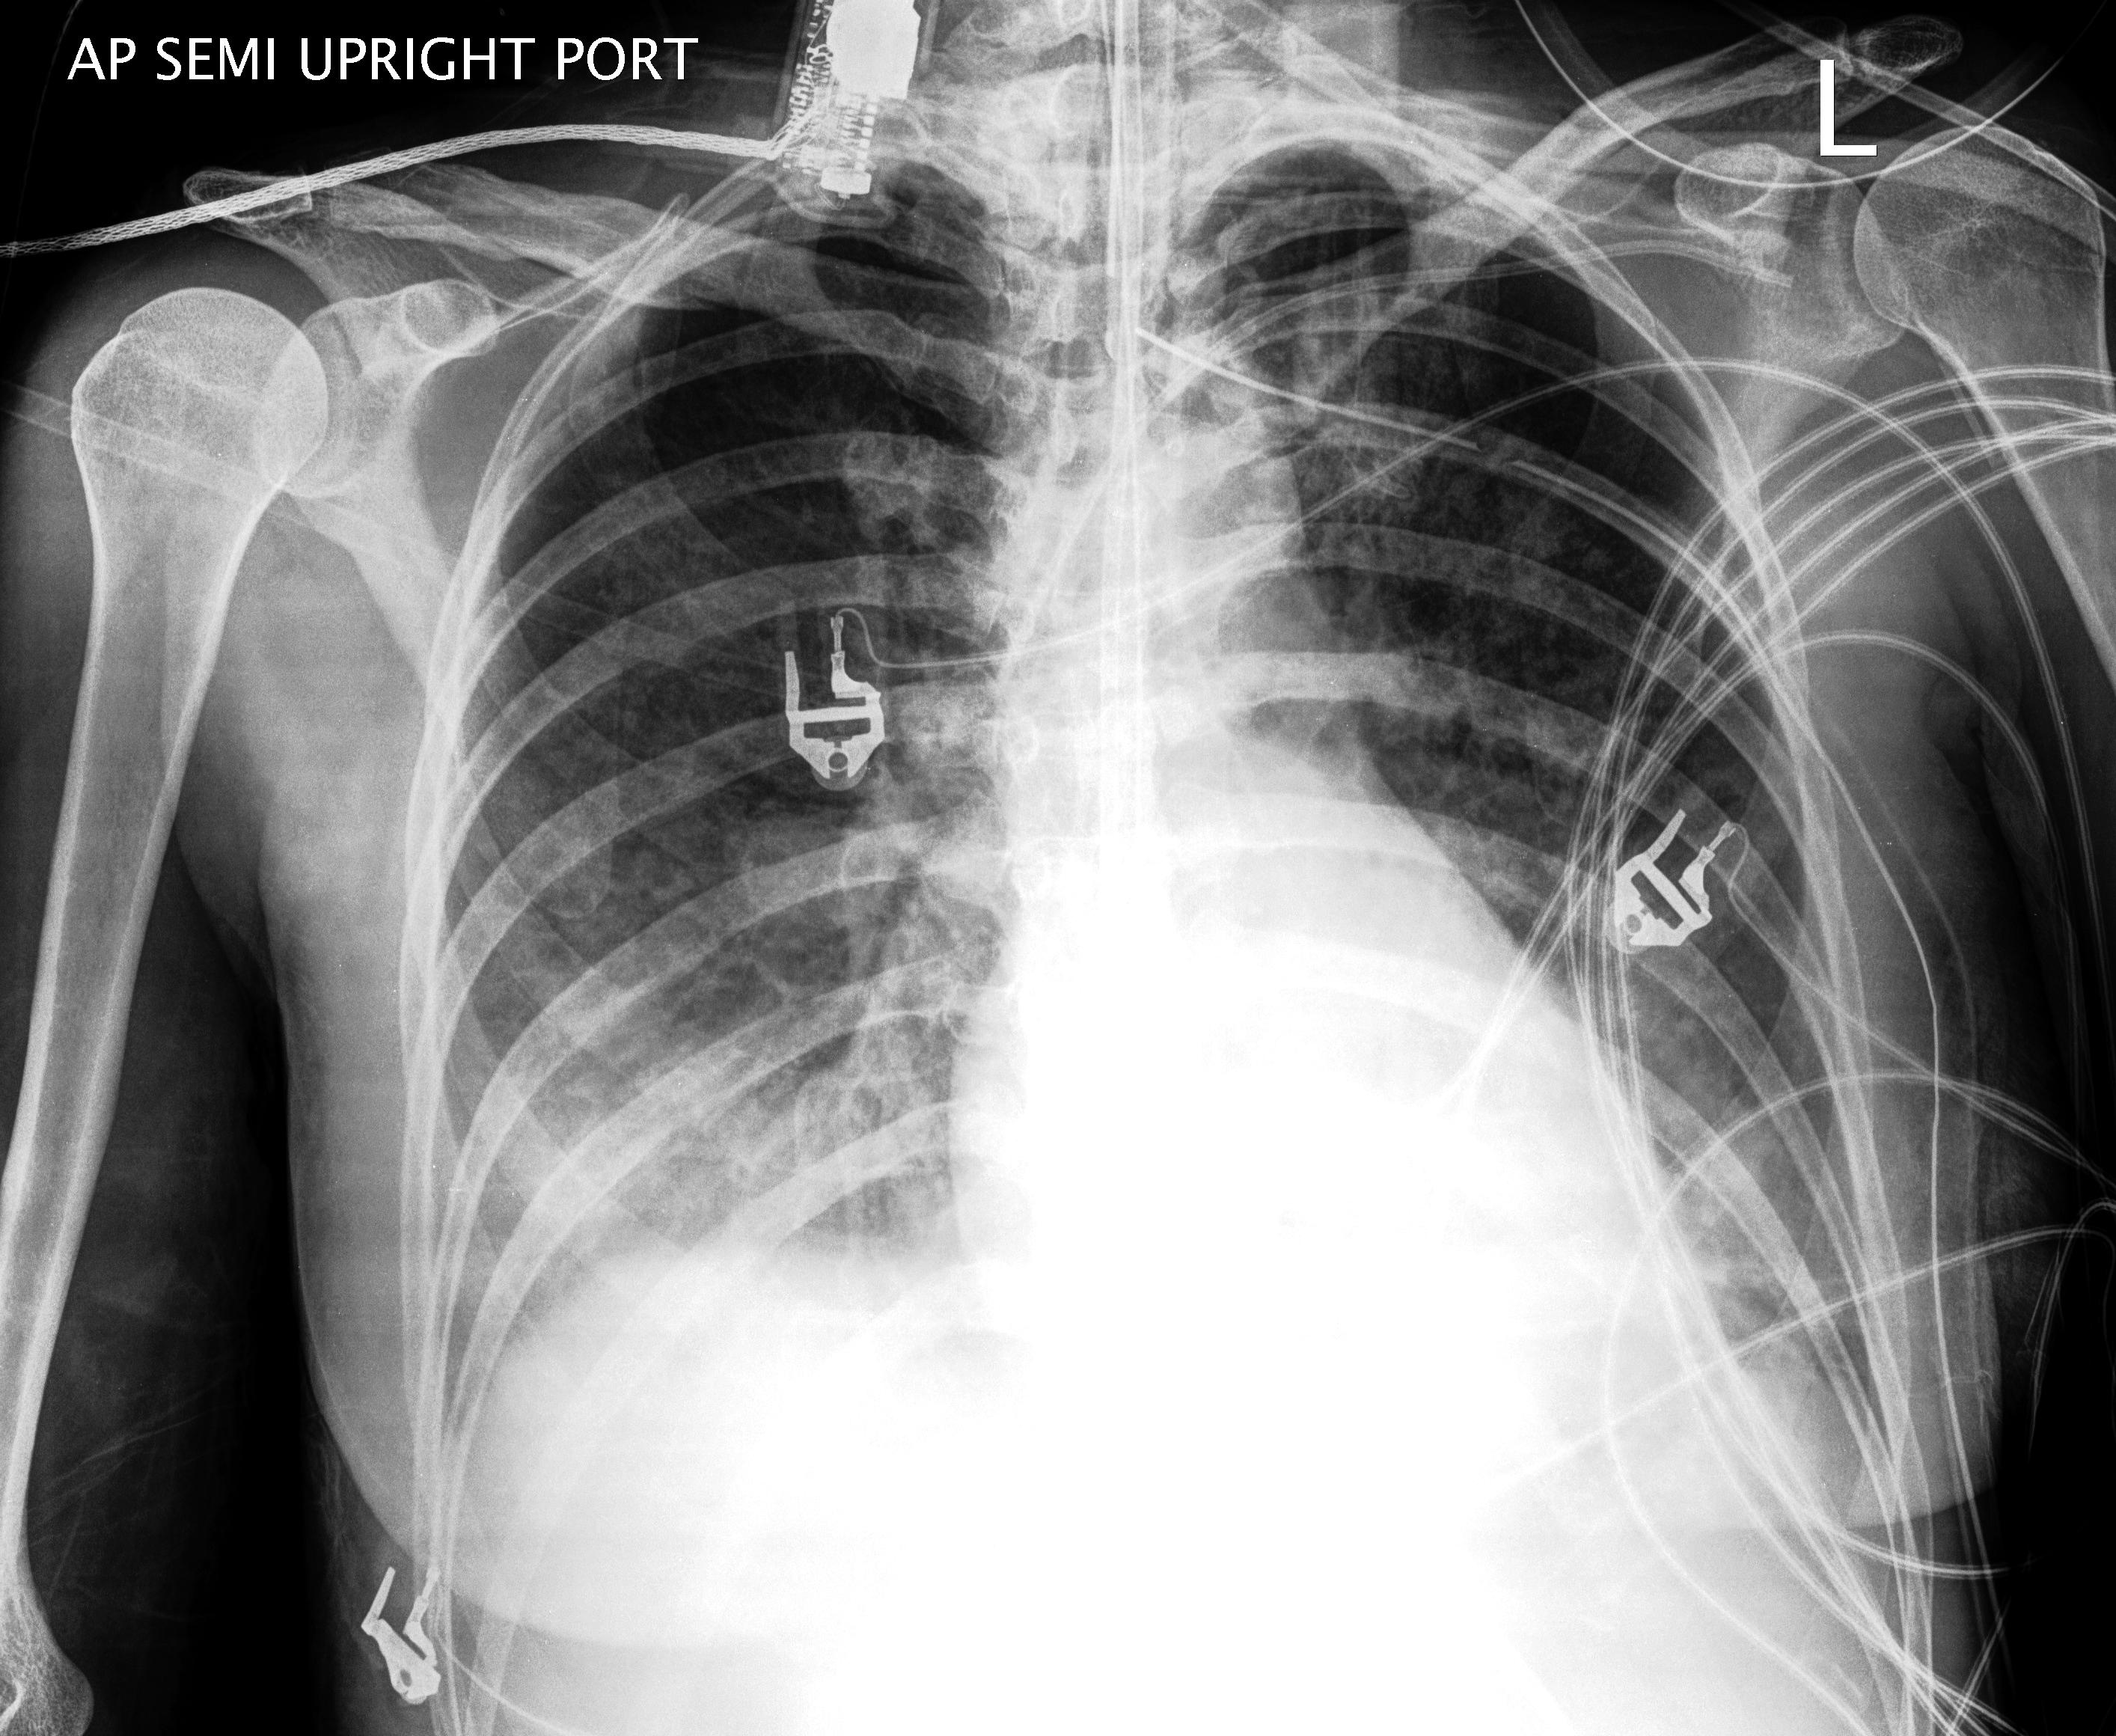Pleural Effusion: (397, 1168, 917, 1588)
